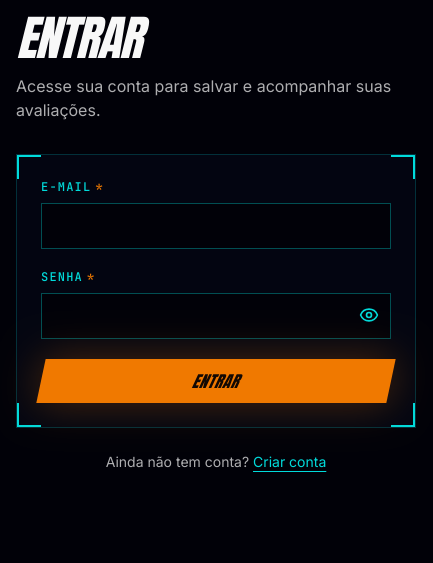
Test: LoginPage › mostra erro genérico com credenciais inválidas (401)
Type "ana@exemplo.com" into the field labelled "E-mail*" at point(216, 226), box 41,203 -> 391,249
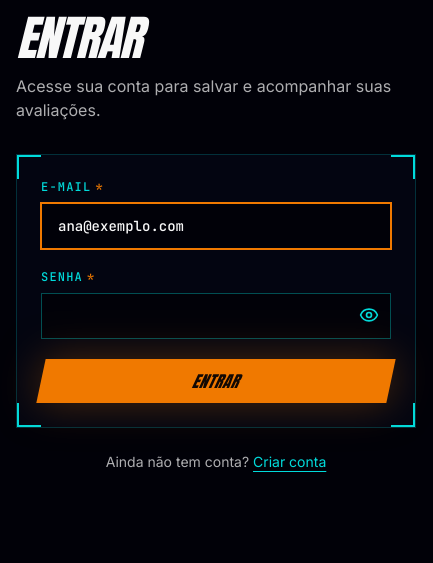
Type "senha-errada" into the password field labelled "Senha*" at point(216, 316), box 41,293 -> 391,339
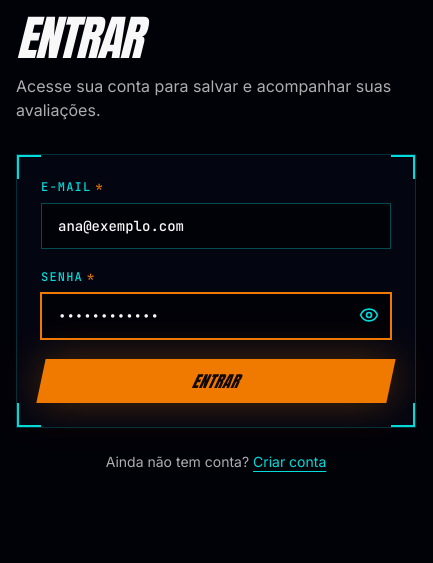
Click the button "Entrar" at point(216, 381), box 36,359 -> 396,403
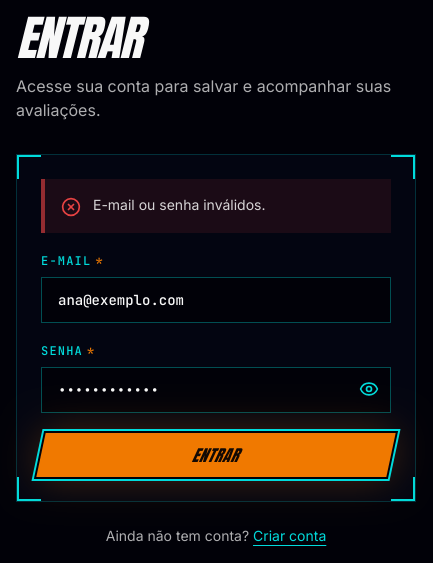
Expected: the message reads "E-mail ou senha inválidos.", 93,196 -> 266,213
